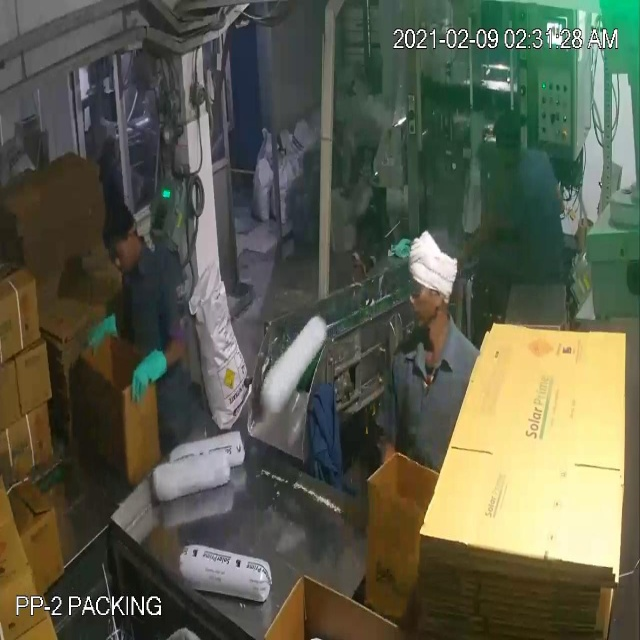Guantes: (118, 341, 181, 408), (68, 296, 124, 362)
